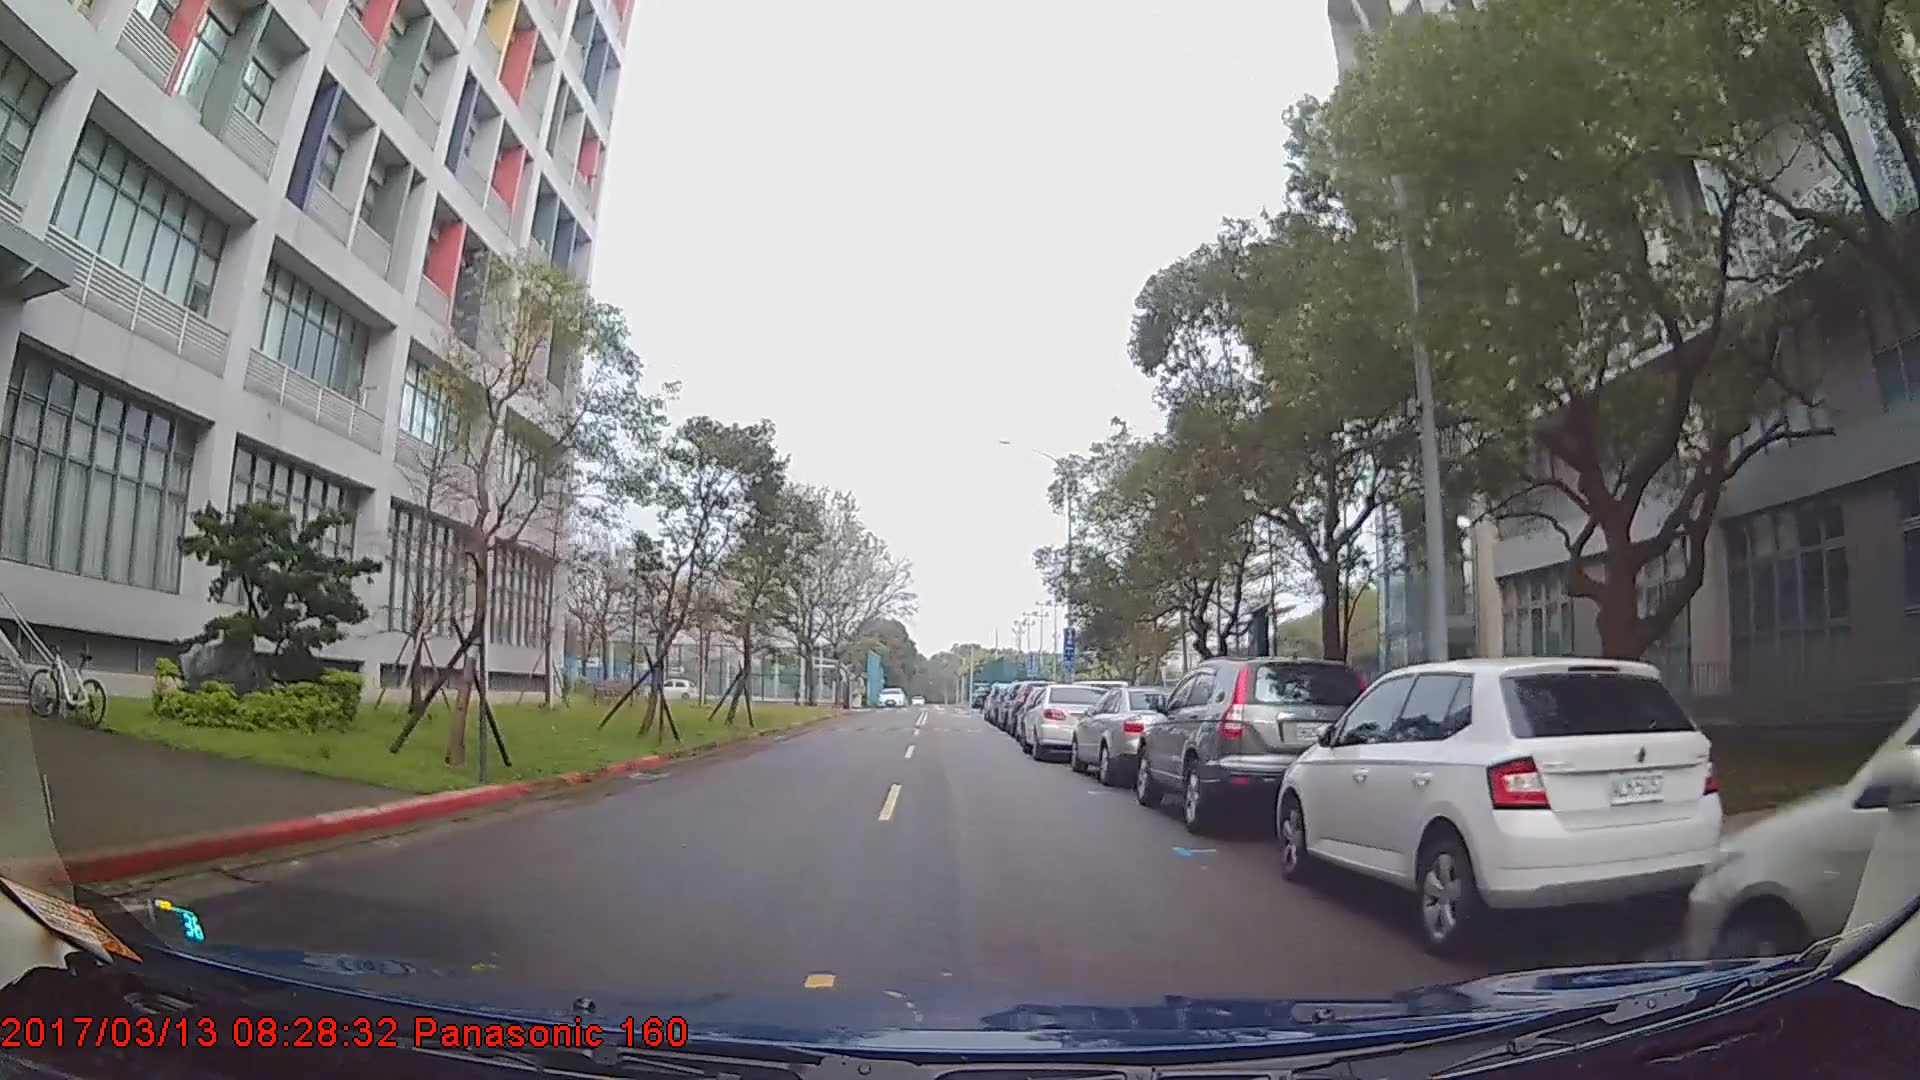vehicle: (1271, 655, 1725, 956), (1687, 702, 1919, 1006), (1130, 658, 1373, 833), (1069, 684, 1189, 786), (1018, 680, 1120, 760), (647, 676, 699, 703)
